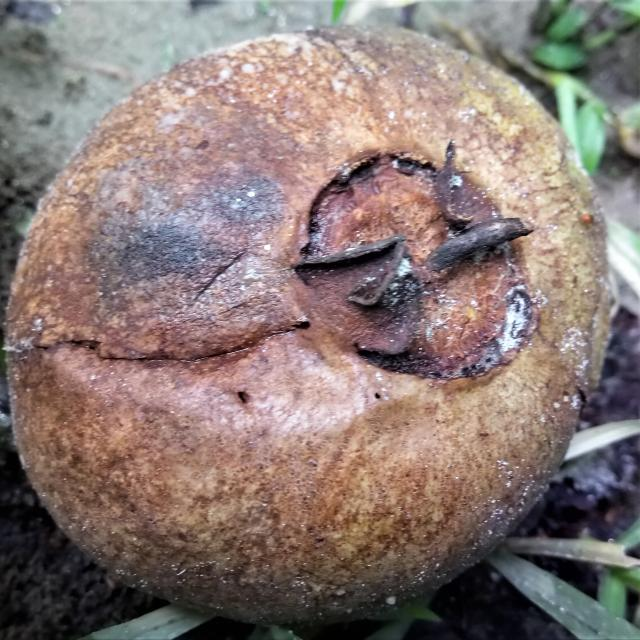Phytopthora: (8, 30, 608, 622)
